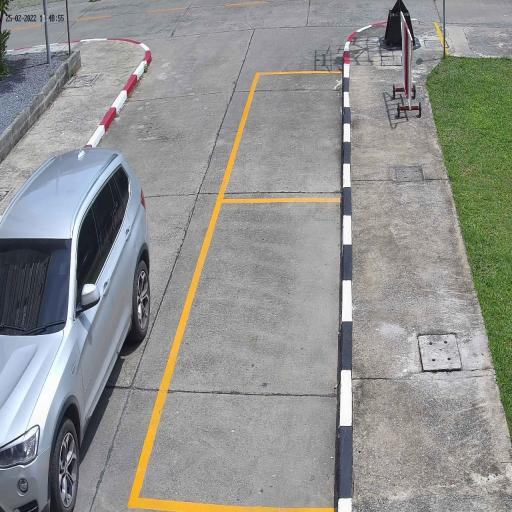car: (0, 148, 150, 512)
